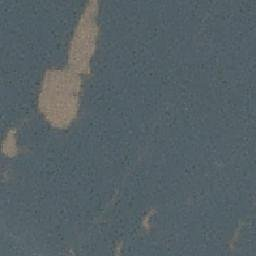debris: (35, 2, 102, 130), (1, 127, 21, 159), (229, 220, 241, 252), (142, 208, 157, 233), (113, 238, 124, 255)
